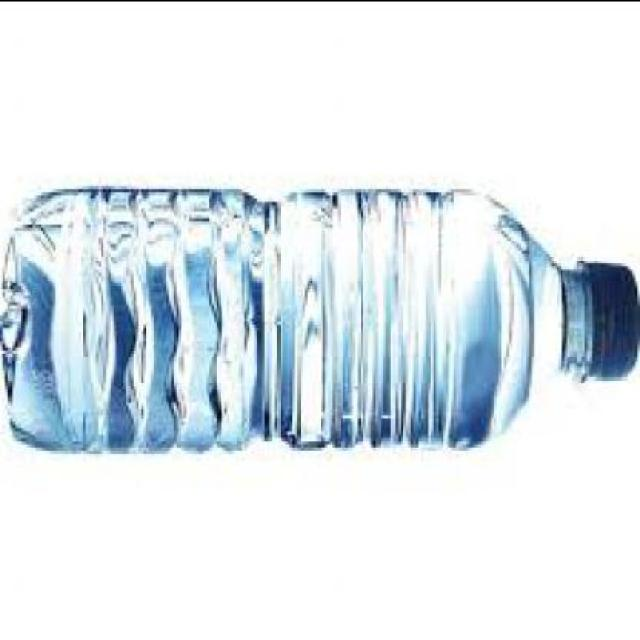PLASTIC: (1, 188, 638, 457), (577, 264, 638, 384)
